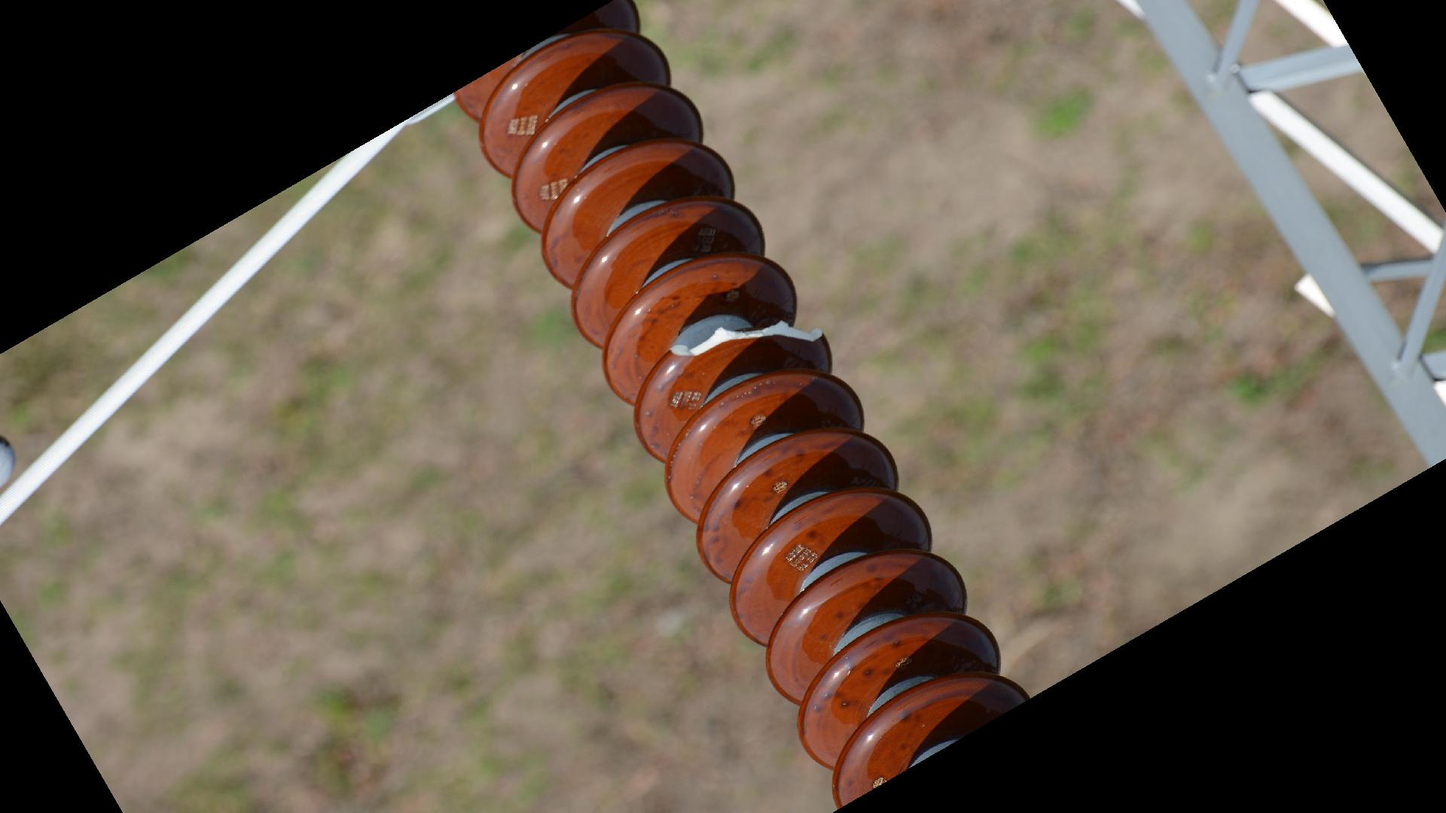insulator: (446, 1, 1038, 813)
insulator_breakage: (664, 315, 831, 364)
